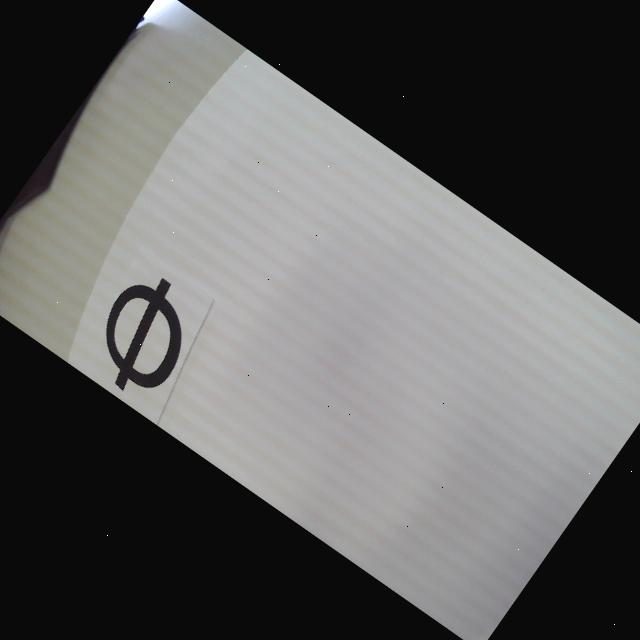PHI: (73, 262, 214, 409)
